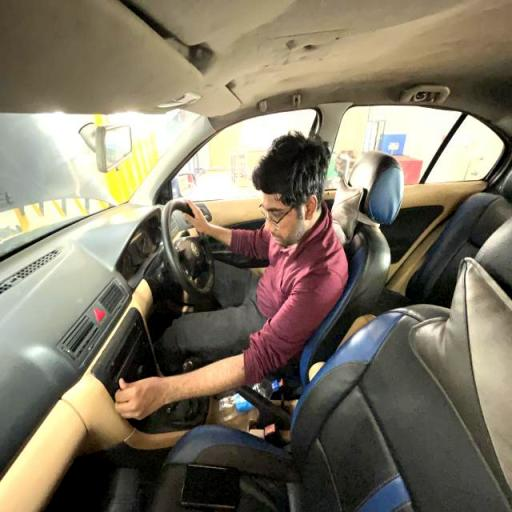operatingradio: (106, 131, 349, 428)
